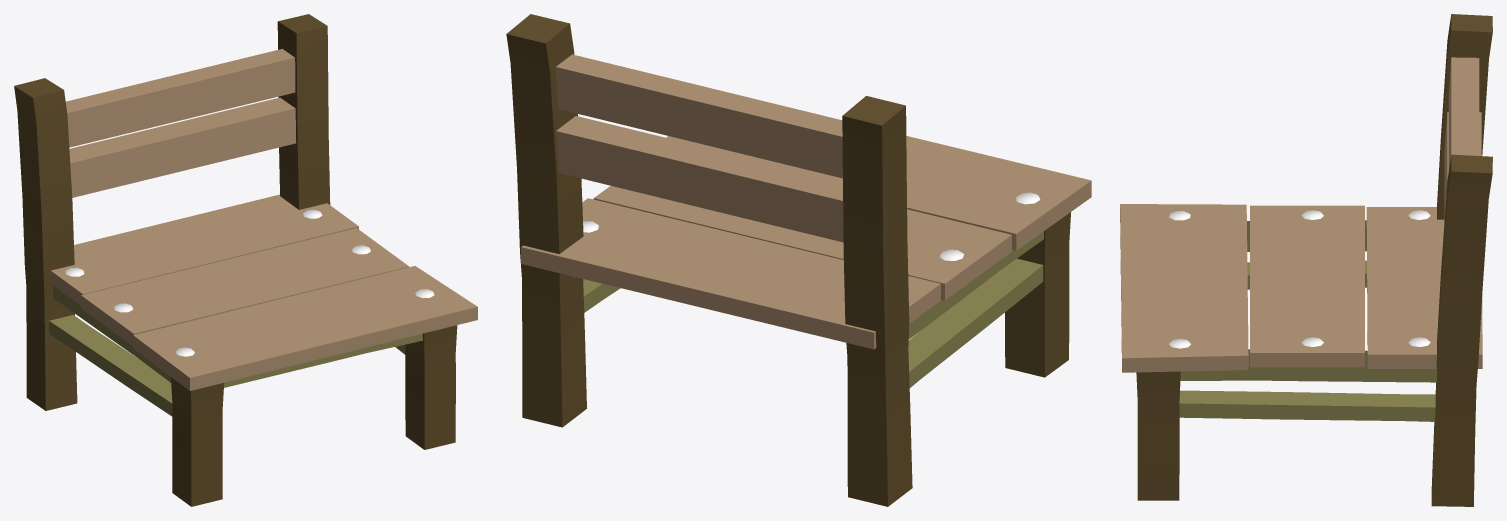
File: chair.glb
3 views of the same model, side by side, from view 1: azimuth 30°, elevation 25°; view 2: azimuth 150°, elevation 25°; view 3: azimuth 270°, elevation 25° (orthographic). The views are drawn at different scales.
Visible parts, largest first — view 1: Chair_1; view 2: Chair_1; view 3: Chair_1.
Part boxes in pixels (x1,y1,x2,y2): Chair_1: (14,14,477,506); Chair_1: (506,14,1091,506); Chair_1: (1120,14,1492,506).
Size of the model in its own units: 1 by 1 by 1.
